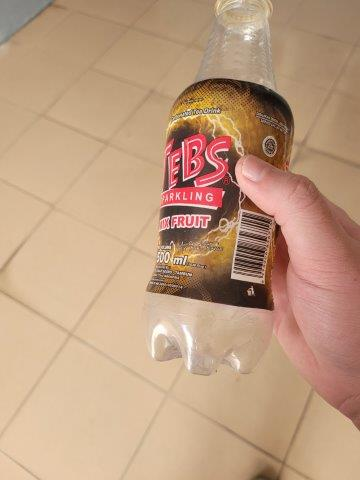botolplastik: (146, 1, 296, 376)
